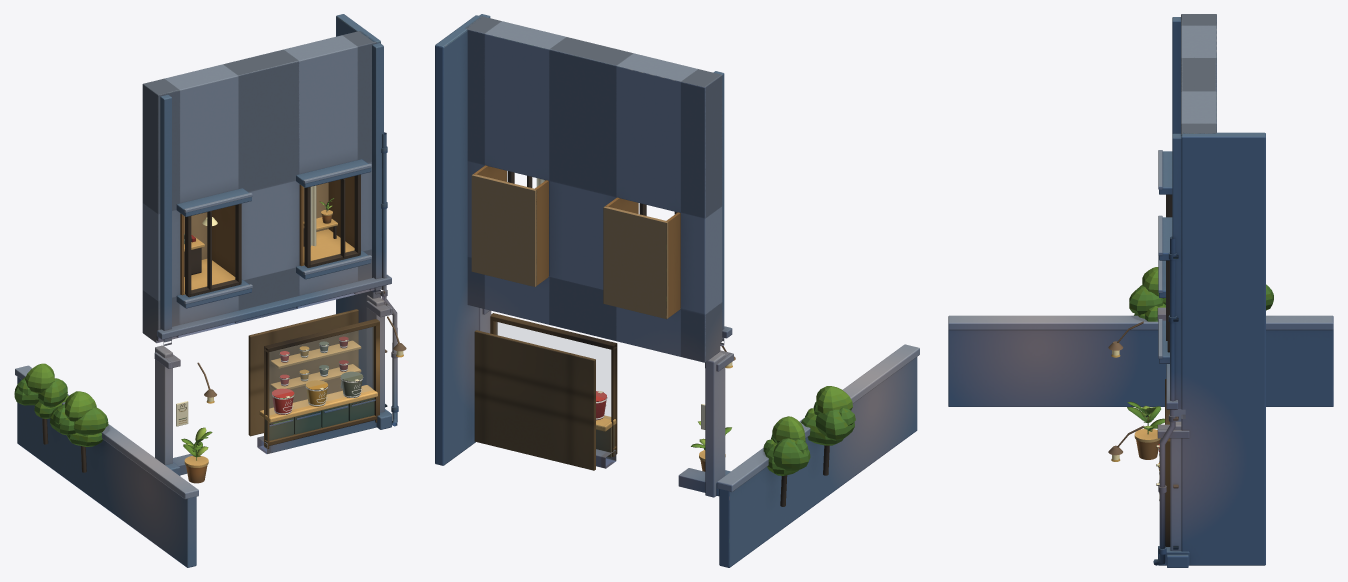
File: storefront_shop_direct_tree_t2.glb
The picture shows the model from 3 angles, left to right: view 1: azimuth 30°, elevation 25°; view 2: azimuth 150°, elevation 25°; view 3: azimuth 270°, elevation 25°; orthographic projection. The views are drawn at different scales.
Parts seen in each view (by area): view 1: storefront_s01_UV, Display glass, storefront_s01_white_identity; view 2: storefront_s01_UV, Display glass; view 3: storefront_s01_UV.
Part boxes in pixels (<box>): storefront_s01_UV: <box>14,14,406,567</box>; Display glass: <box>269,327,373,414</box>; storefront_s01_white_identity: <box>272,340,363,414</box>; storefront_s01_UV: <box>435,14,919,567</box>; Display glass: <box>496,322,610,419</box>; storefront_s01_UV: <box>948,14,1333,567</box>.
Bounding box in the file's own units: 8.7 × 9.22 × 7.5.
Materials: 3 (1 with a texture image).
